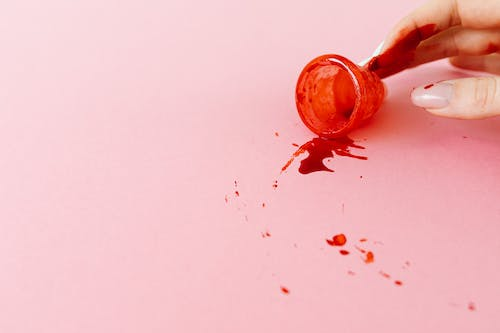blood: (222, 128, 476, 312), (364, 21, 500, 98), (293, 52, 386, 139)
